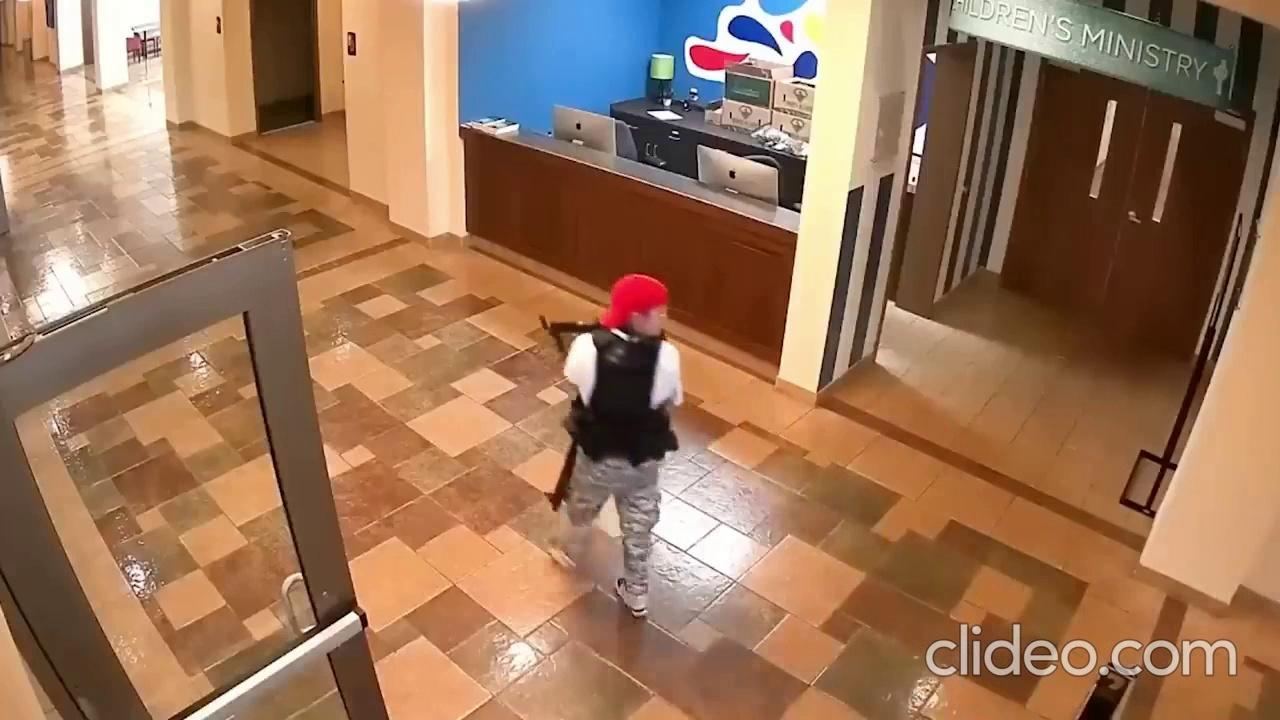person: (547, 273, 684, 619)
rifle: (544, 388, 588, 512)
